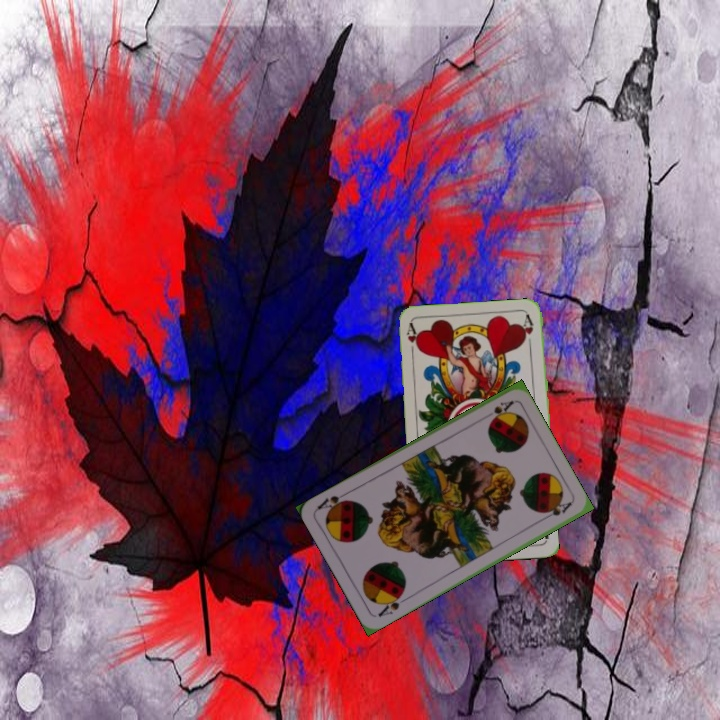HA: (402, 320, 421, 361)
SA: (374, 589, 410, 620), (487, 396, 516, 422)
